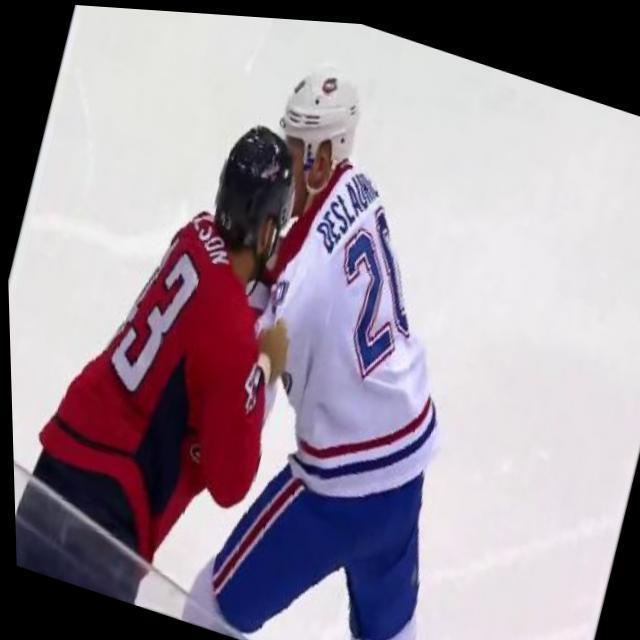fight: (14, 0, 535, 622)
